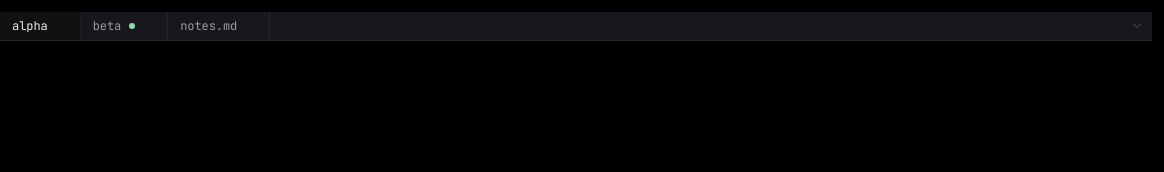
it: TabBar › keyboard › closes the overflow menu on Escape
Click the button named "all tabs" at (1137, 26), box [1122,12,1152,40]
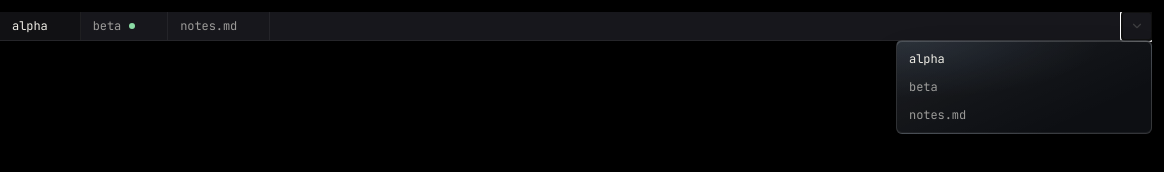
Now the number of menu items is 3, box [897,45,1151,73]; [897,73,1151,101]; [897,101,1151,129]
Press Escape
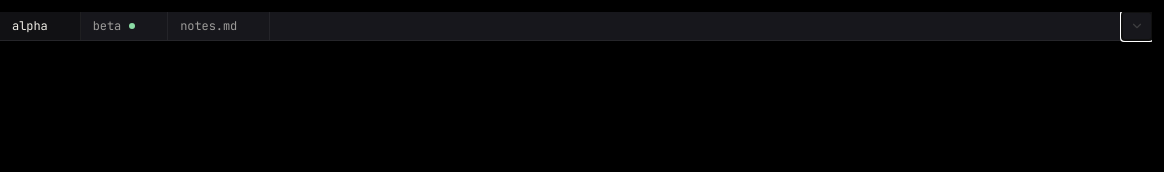
Now no menu items are shown
